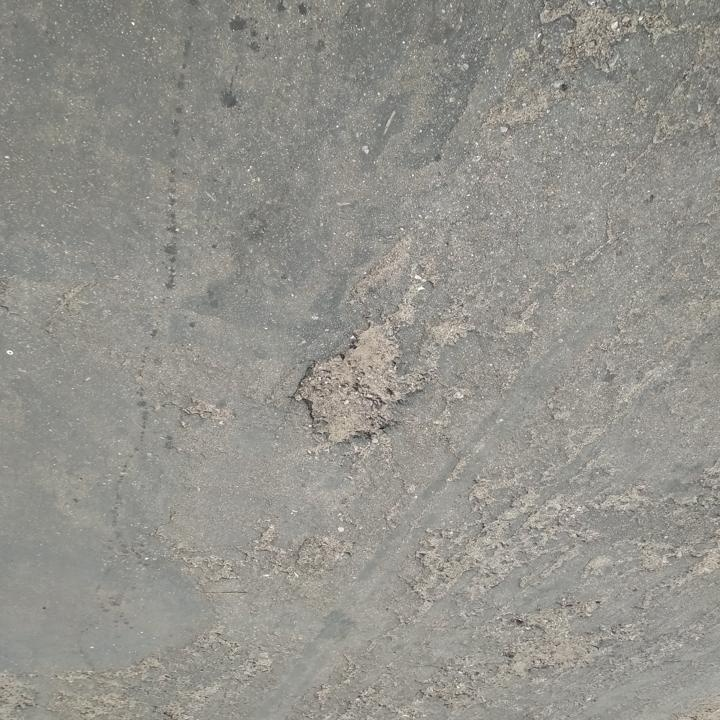pothole: (297, 321, 430, 447), (504, 598, 595, 679)
